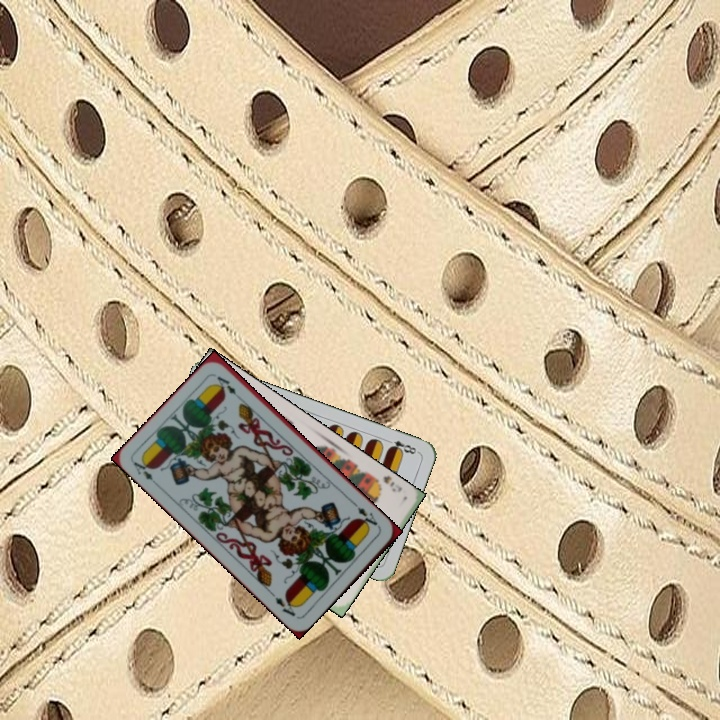E8: (382, 435, 421, 457)
EA: (129, 455, 162, 489), (350, 499, 383, 532)
S9: (369, 472, 405, 495)
